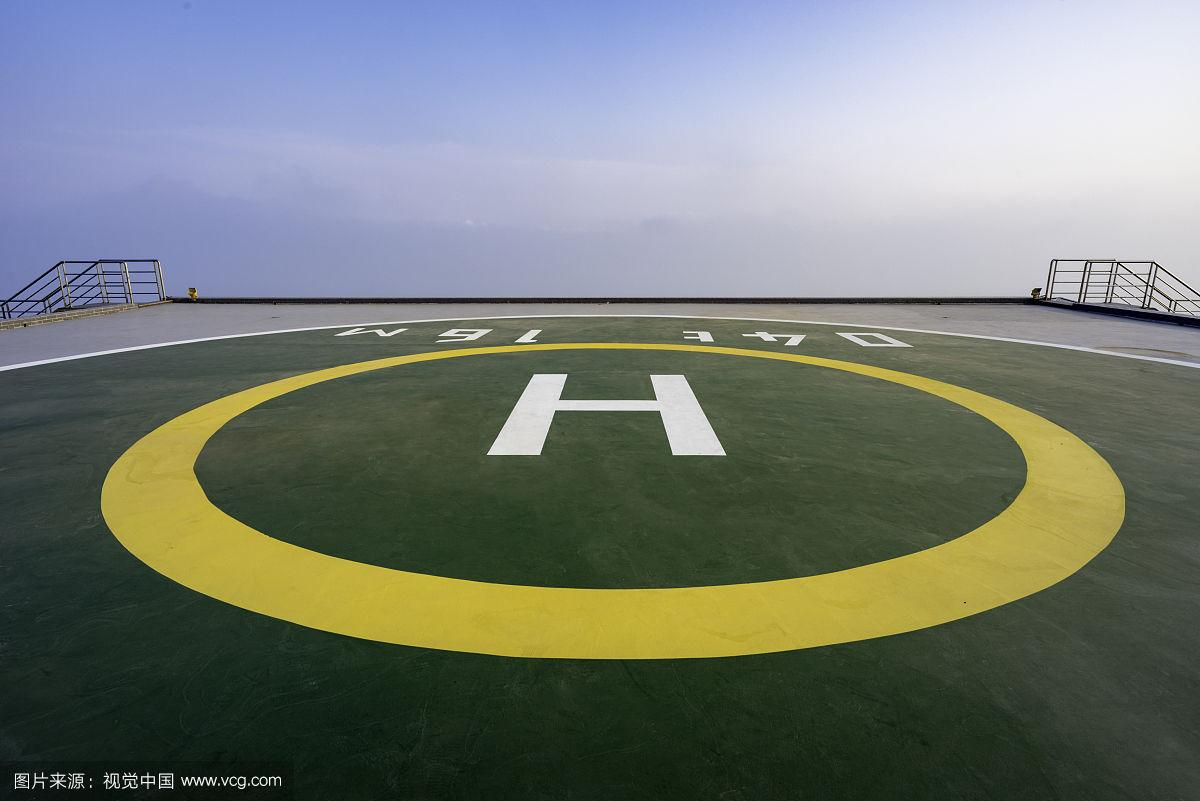H: (482, 371, 734, 458)
